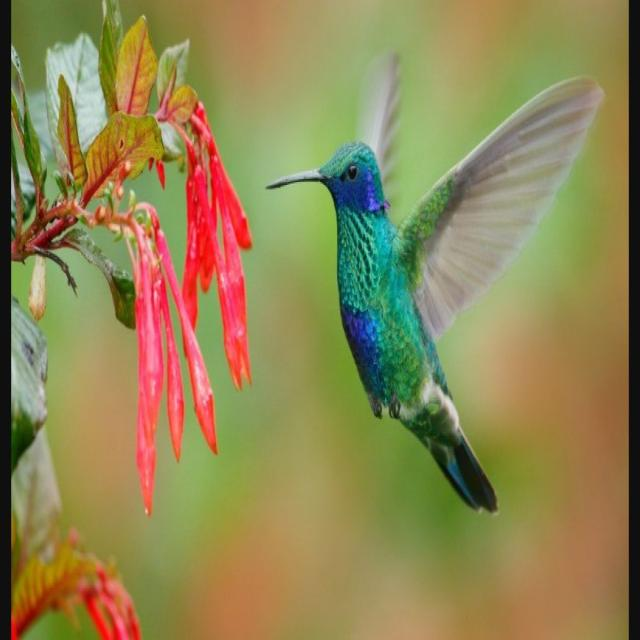Humming Bird: (269, 69, 586, 534)
